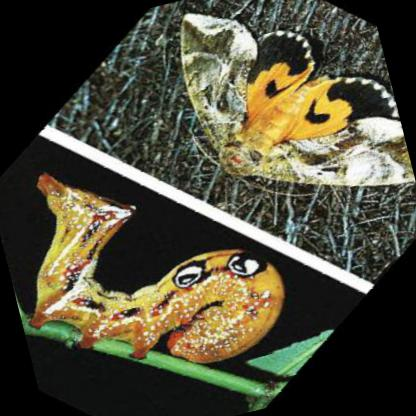fruit sucking moth: (186, 13, 415, 185)
